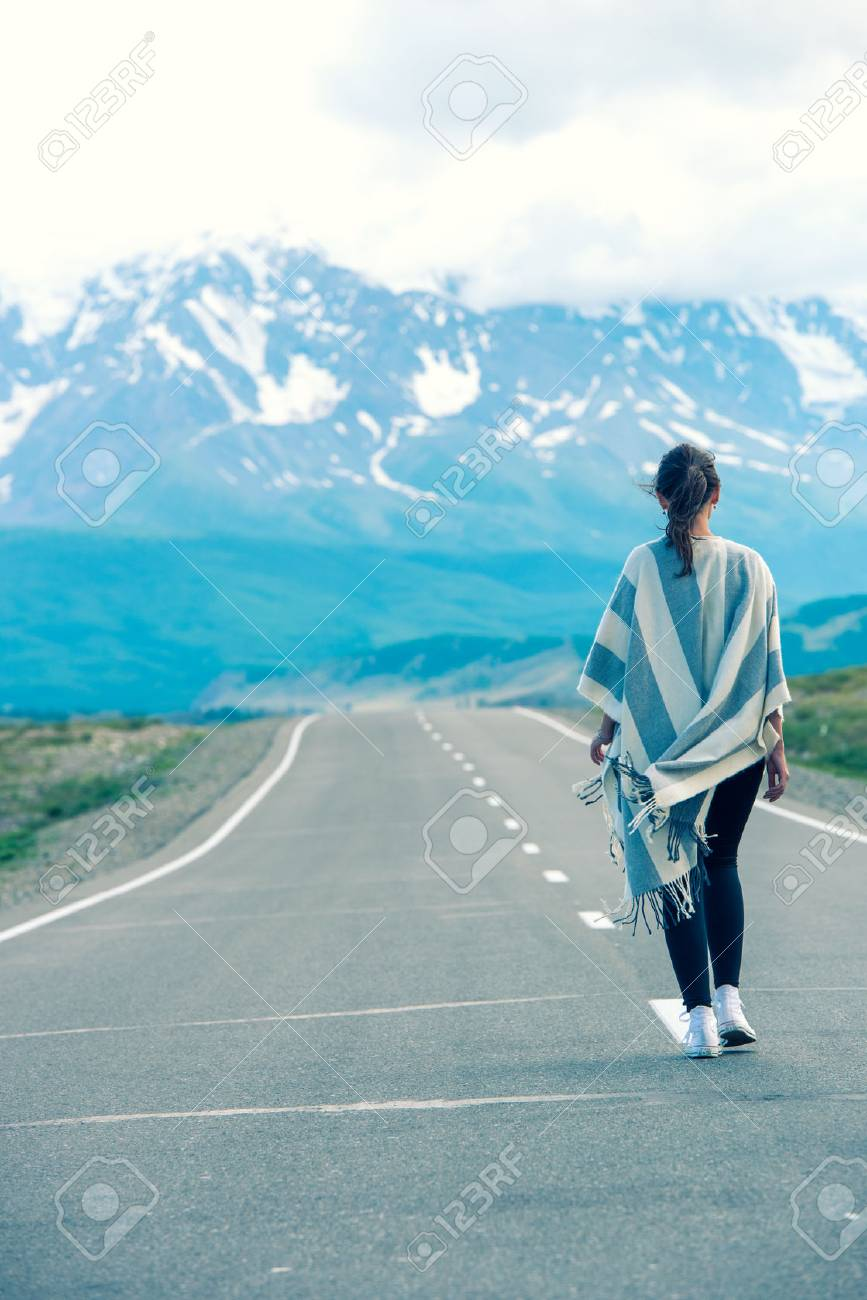Person: (567, 446, 802, 1065)
